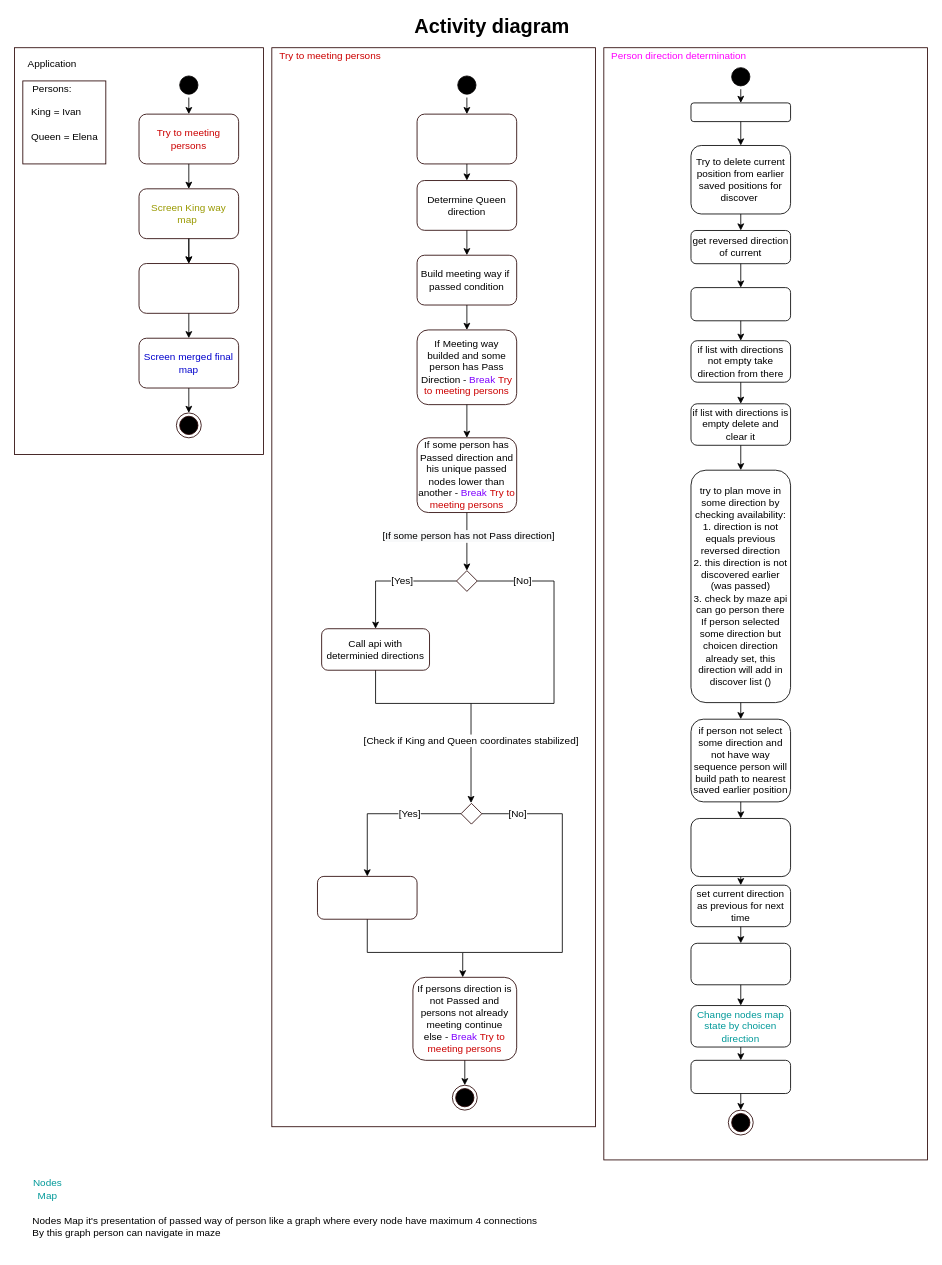
This 942x1265 diagram has some shape labels left out. Each missing label, with the centre of its shape:
"Build and set path between two persons" goes at point (367, 897).
"change nodes map state by choicen directin" goes at point (740, 963).
"check by api person can go to direction, if not set choicen direction as Pass" goes at point (740, 847).
"Determine King direction" goes at point (466, 138).
"Get current position" goes at point (740, 112).
"return choicen direction" goes at point (740, 1076).
"Screen Queen way map" goes at point (188, 288).
"set choicen directions as Pass" goes at point (740, 304).
